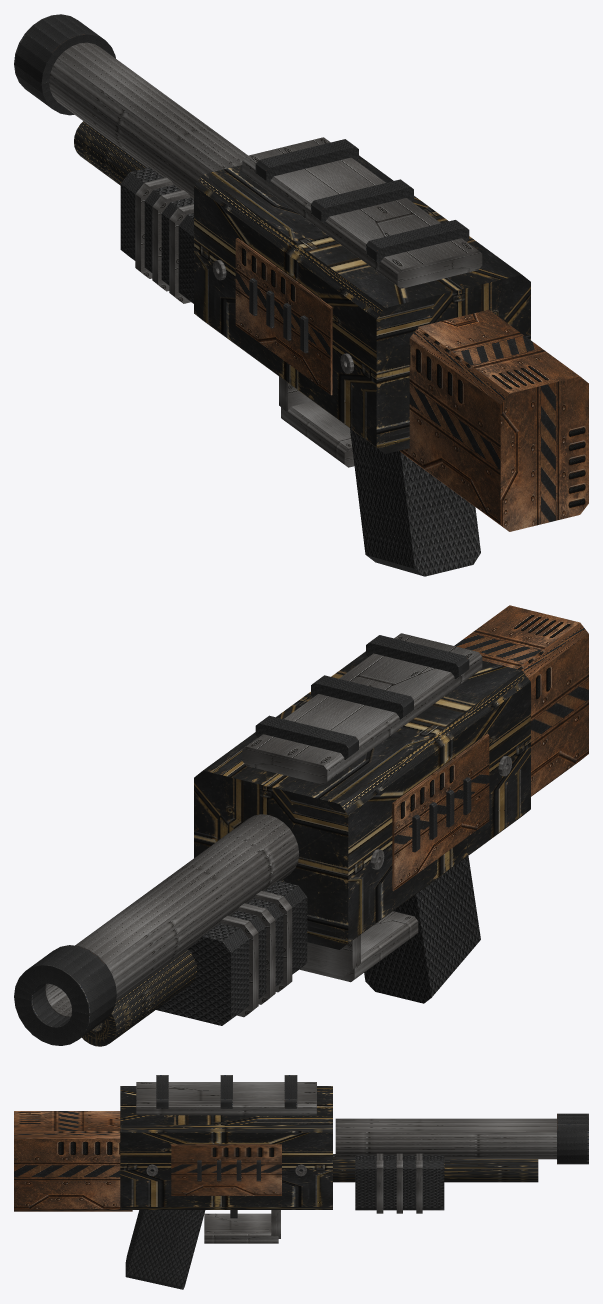
Rendered from shotgun.gltf.
The picture shows the model from 3 angles, top to bottom: view 1: azimuth 30°, elevation 25°; view 2: azimuth 150°, elevation 25°; view 3: azimuth 270°, elevation 25°; orthographic projection. The views are drawn at different scales.
Visible parts, largest first — view 1: Receiver, Stock, Barrel, Grip, TopRail, InsetPanel, RailNotch (×3), Pump, Muzzle, PumpRib (×3), TriggerGuard, MagazineTube; view 2: Receiver, Barrel, Stock, TopRail, Pump, Grip, InsetPanel, Muzzle, RailNotch (×3), MagazineTube, PumpRib (×3), TriggerGuard (+1 smaller); view 3: Receiver, Stock, Barrel, InsetPanel, TopRail, Grip, Pump, MagazineTube, TriggerGuard, Muzzle, RailNotch (×3), PumpRib (×3).
Part boxes in pixels (x1,y1,x2,y2): Receiver: (194, 155, 530, 453); Stock: (399, 309, 588, 531); Barrel: (49, 42, 247, 199); Grip: (350, 428, 480, 576); TopRail: (242, 137, 482, 288); InsetPanel: (235, 238, 332, 395); RailNotch (×3): (255, 139, 469, 263); Pump: (120, 167, 193, 303); Muzzle: (14, 14, 115, 115); PumpRib (×3): (135, 177, 193, 303); TriggerGuard: (281, 401, 354, 467); MagazineTube: (74, 121, 146, 185); Receiver: (194, 651, 530, 949); Barrel: (45, 814, 299, 1017); Stock: (454, 605, 588, 796); TopRail: (242, 633, 482, 784); Pump: (156, 880, 307, 1025); Grip: (364, 856, 480, 1003); InsetPanel: (392, 734, 489, 891); Muzzle: (14, 945, 116, 1045); RailNotch (×3): (255, 635, 469, 759); MagazineTube: (82, 879, 285, 1046); PumpRib (×3): (220, 891, 292, 1017); TriggerGuard: (299, 911, 418, 982); Receiver: (120, 1086, 332, 1209); Stock: (14, 1111, 132, 1211); Barrel: (335, 1118, 556, 1159); InsetPanel: (171, 1144, 281, 1195); TopRail: (136, 1082, 316, 1115); Grip: (125, 1210, 205, 1289); Pump: (355, 1155, 444, 1210); MagazineTube: (333, 1154, 538, 1182); TriggerGuard: (204, 1213, 278, 1243); Muzzle: (557, 1113, 588, 1164); RailNotch (×3): (156, 1075, 297, 1108); PumpRib (×3): (376, 1153, 422, 1213).
Size of what is drawn, in the model's own units: 0.1705 by 0.3271 by 0.8719.
4 materials, 4 textured.
